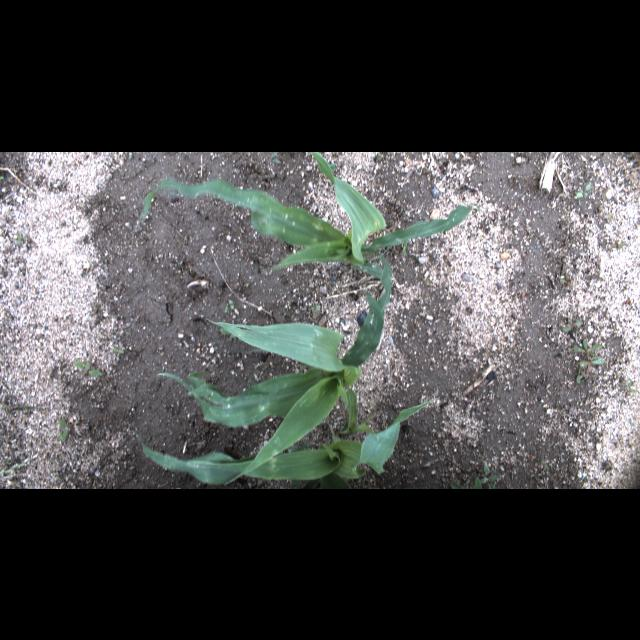crop: (156, 255, 392, 487), (130, 152, 474, 280), (143, 388, 441, 488)
weed: (574, 336, 606, 382), (478, 460, 498, 488), (72, 360, 102, 376), (560, 318, 584, 334), (450, 477, 484, 488), (58, 417, 70, 439), (576, 182, 592, 198), (558, 274, 574, 288), (113, 342, 125, 360), (610, 238, 624, 248), (16, 231, 24, 247), (402, 239, 406, 257)
